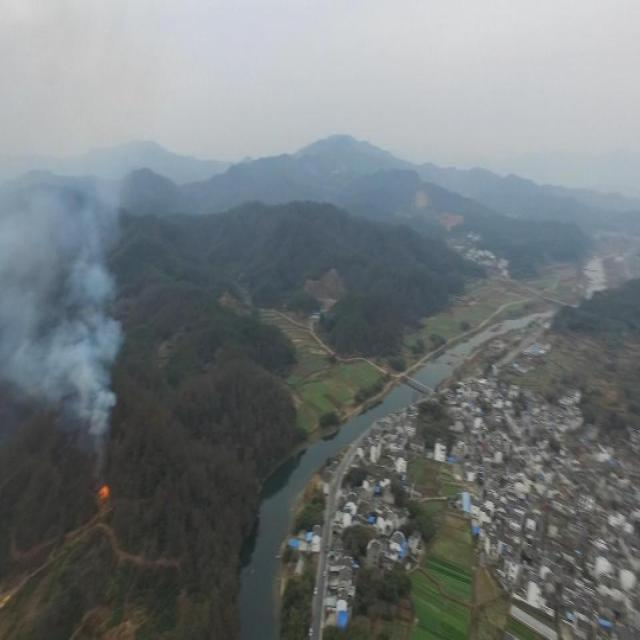Fire: (98, 482, 109, 502)
Smoke: (0, 158, 124, 438)
